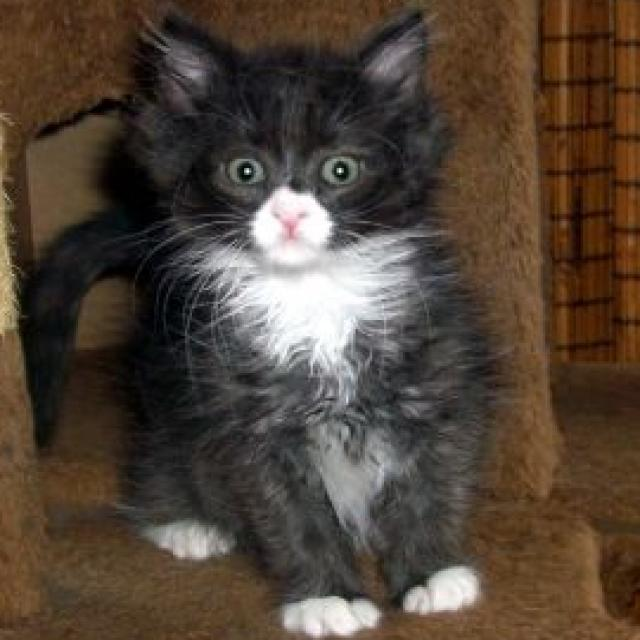Tuxedo: (17, 0, 488, 638)
